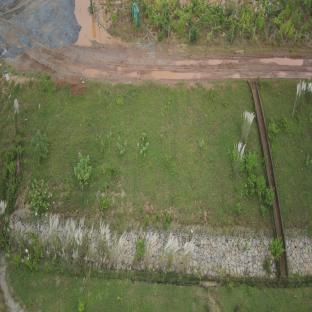rock_toe: (15, 219, 279, 279), (286, 237, 312, 275)
slope_drain: (249, 80, 289, 279)
toe_drain: (38, 262, 311, 290)
